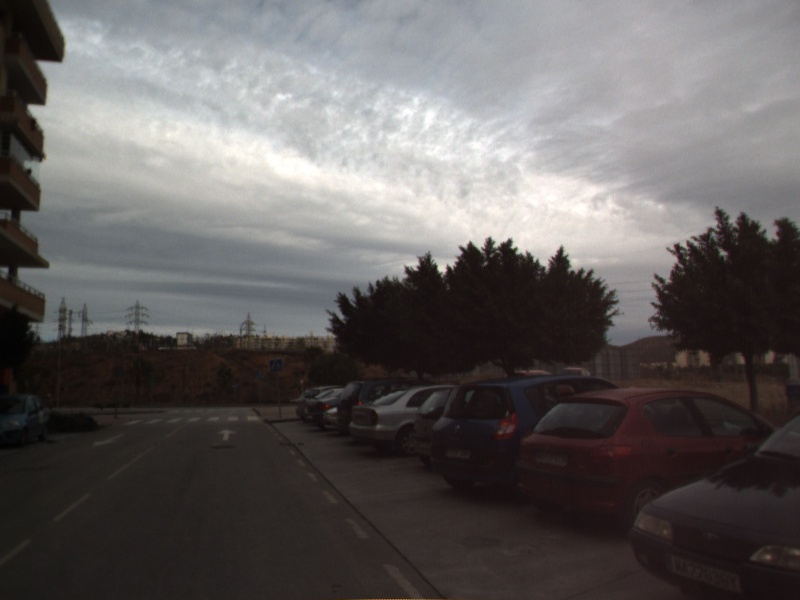STRAIGHT: (215, 427, 239, 442)
